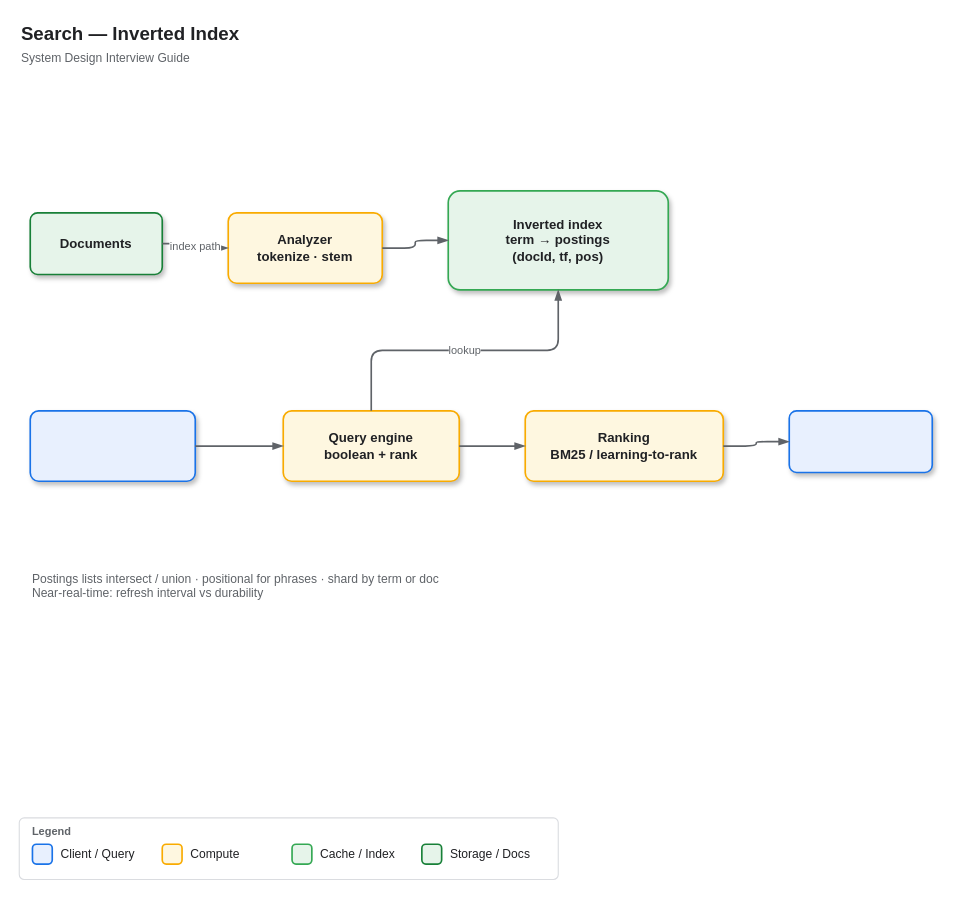
Some shapes in this 959 by 899 pixel diagram are drawn without their labels. Here are the shapes that lost their labels. From the top down, the centre of each, then its label:
(113,447): Query: "system design"
(861,442): Top-K results
